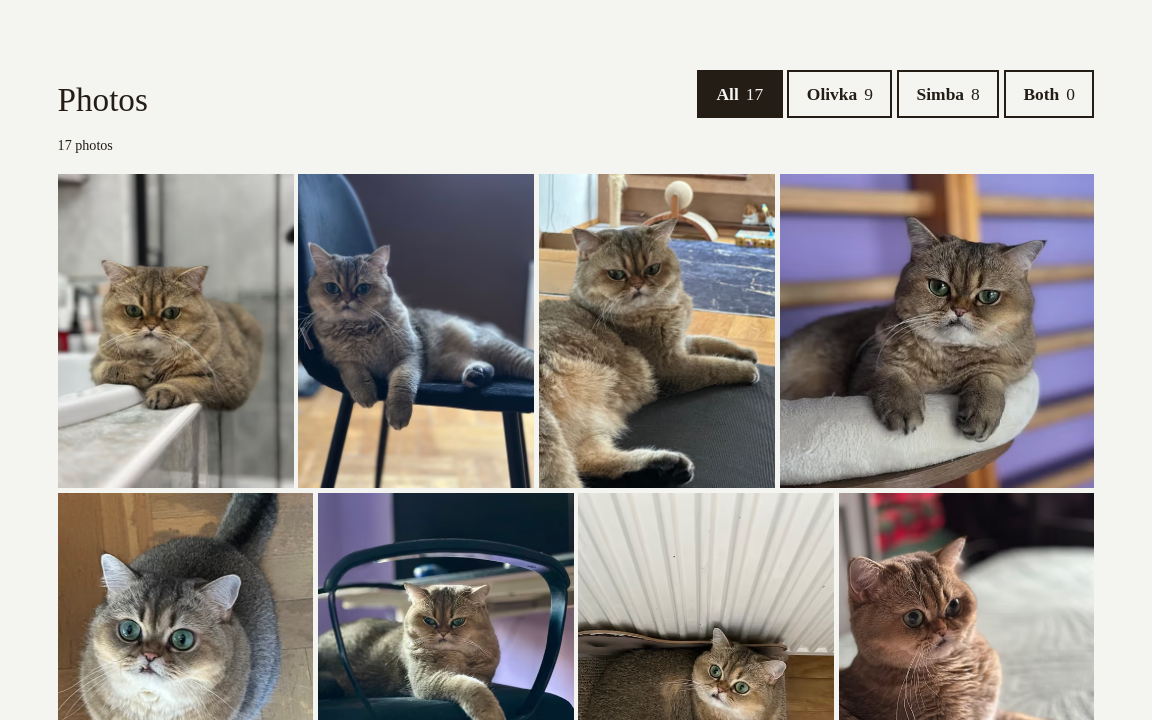
Test: Gallery filter › shows only the chosen cat and puts the filter in the URL
Click the radio button labelled "Simba 8" at (948, 94), box [897,70,999,118]
(page scrolled)
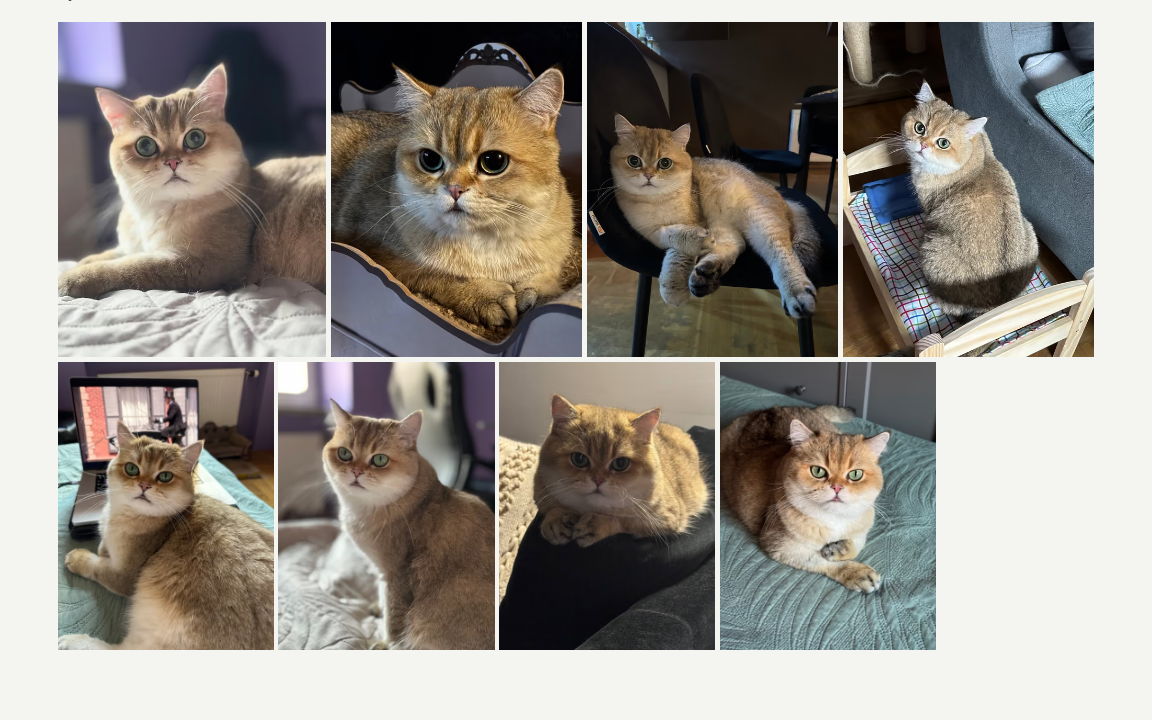
Now the number of buttons is 8
